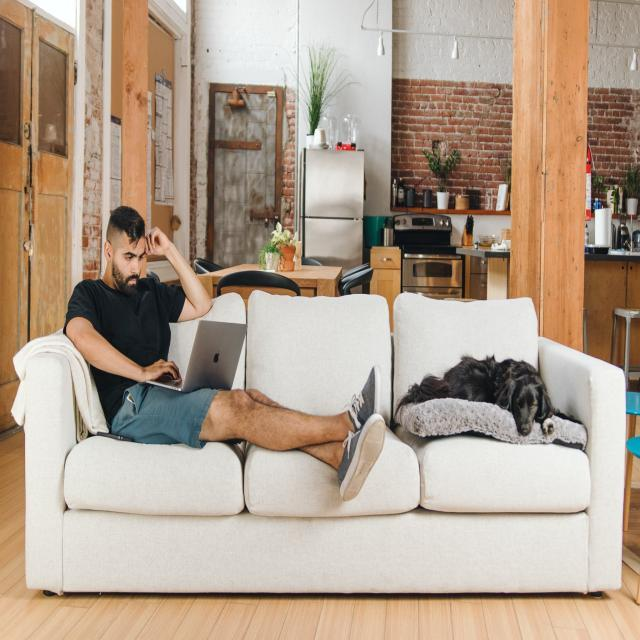sofa: (23, 290, 627, 598)
